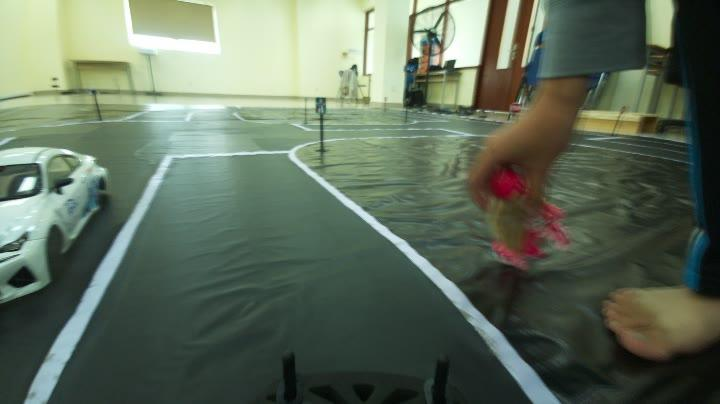car: (1, 122, 101, 298)
